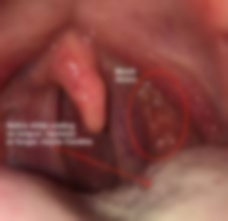Ulcer: (138, 82, 177, 154)
